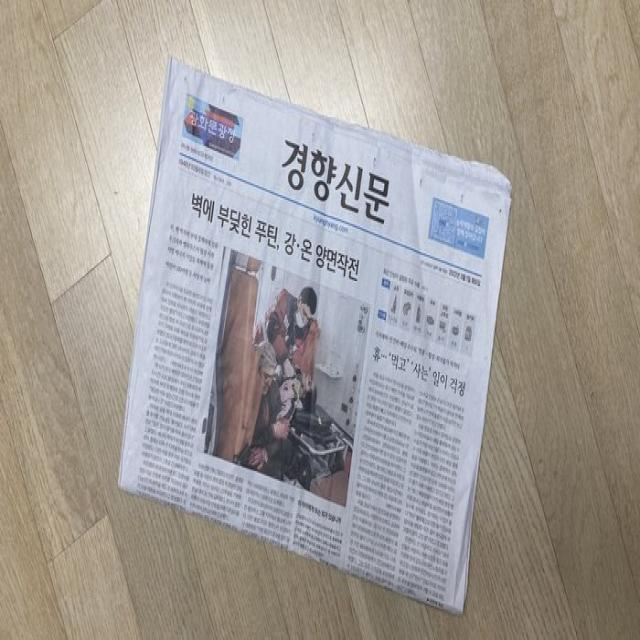newspaper: (125, 62, 510, 610)
